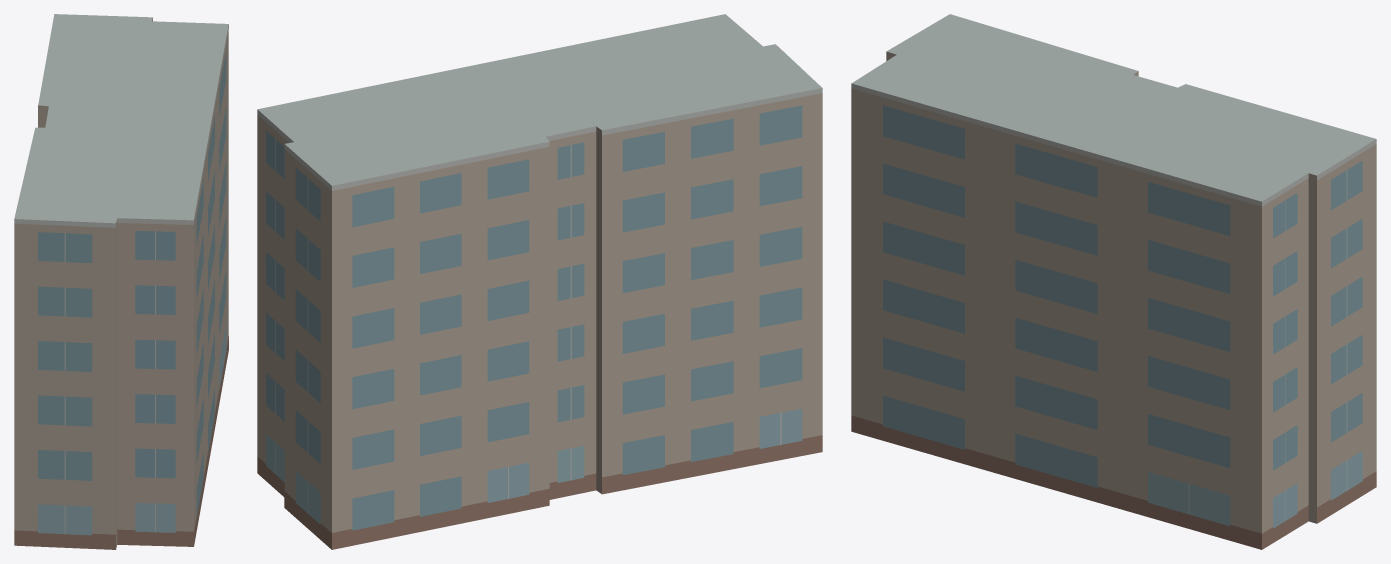
File: survey-upis-32585492.glb
The picture shows the model from 3 angles, left to right: view 1: azimuth 30°, elevation 25°; view 2: azimuth 150°, elevation 25°; view 3: azimuth 270°, elevation 25°; orthographic projection. The views are drawn at different scales.
Parts seen in each view (by area): view 1: survey-upis-32585492.tmp; view 2: survey-upis-32585492.tmp; view 3: survey-upis-32585492.tmp.
Part boxes in pixels (left/top/right/bottom): survey-upis-32585492.tmp: left=14, top=14, right=228, bottom=549; survey-upis-32585492.tmp: left=257, top=14, right=822, bottom=549; survey-upis-32585492.tmp: left=851, top=14, right=1376, bottom=549.
Size of the model in its own units: 20.01 by 17.3 by 23.66.
